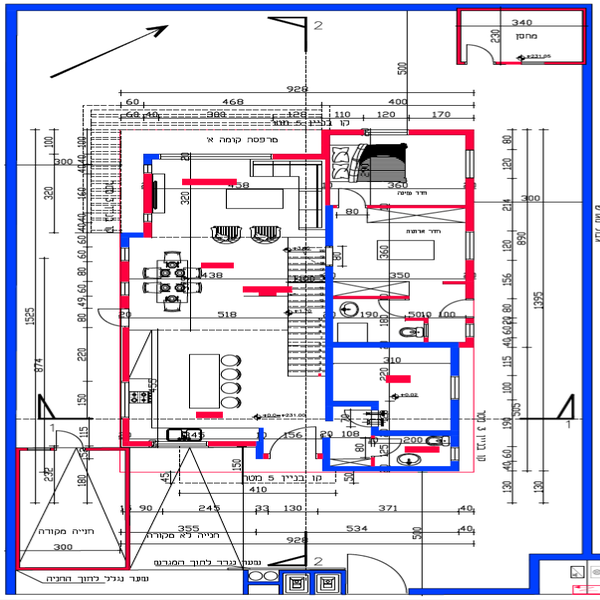door: (343, 548, 411, 600), (266, 421, 325, 475), (91, 303, 135, 329), (378, 294, 411, 324), (438, 294, 472, 322), (342, 406, 381, 430), (335, 186, 368, 214), (367, 436, 401, 462), (467, 41, 497, 67), (52, 428, 87, 450)
wall: (5, 2, 17, 593), (582, 8, 592, 560), (13, 4, 593, 9), (325, 203, 336, 421), (321, 464, 461, 477), (122, 449, 136, 569), (325, 340, 456, 352), (18, 563, 127, 577), (449, 344, 466, 433), (407, 584, 537, 594), (366, 203, 467, 214), (375, 427, 447, 439), (117, 326, 132, 383), (209, 436, 258, 453), (141, 175, 154, 237), (327, 397, 378, 411), (331, 294, 410, 303), (277, 154, 327, 168), (410, 129, 475, 139), (465, 177, 477, 231), (530, 554, 593, 564), (320, 129, 367, 141), (118, 416, 135, 447), (464, 258, 476, 298), (116, 259, 132, 284), (257, 429, 266, 457)
window: (460, 235, 478, 261), (369, 126, 407, 137), (121, 381, 134, 411), (462, 153, 475, 178), (451, 378, 461, 404), (447, 448, 462, 464), (117, 247, 130, 264), (464, 326, 476, 343), (144, 208, 155, 222)
